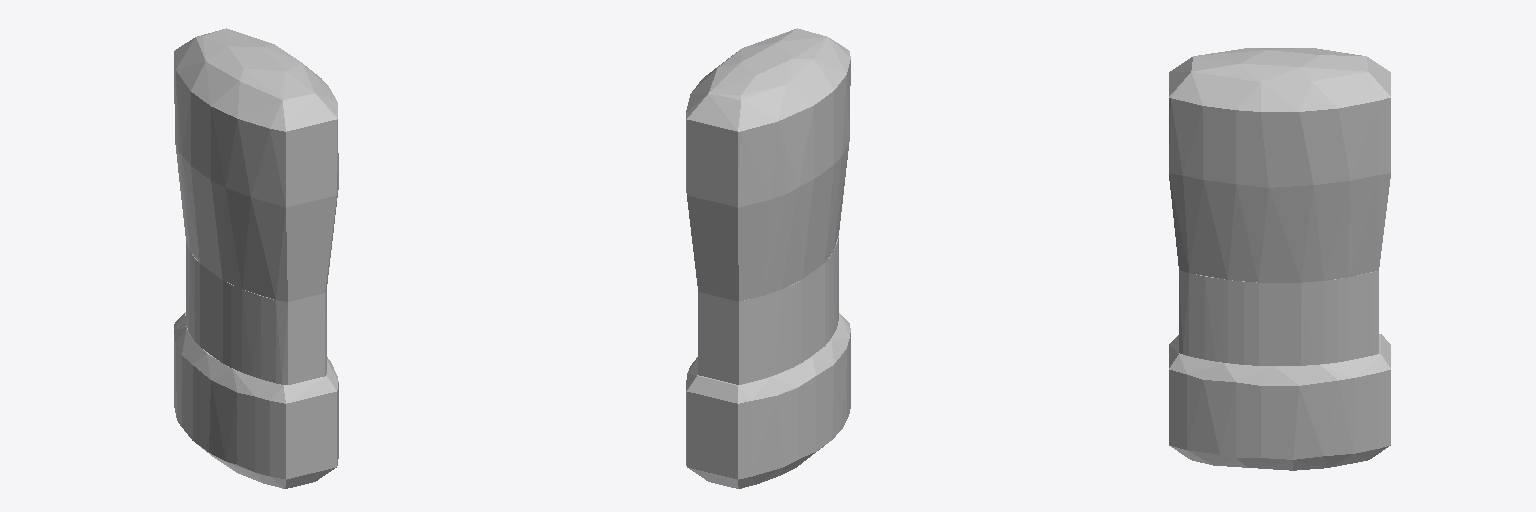
File: original-3_vhacd.obj
3 views of the same model, side by side, from view 1: azimuth 30°, elevation 25°; view 2: azimuth 150°, elevation 25°; view 3: azimuth 270°, elevation 25° (orthographic).
Visible parts, largest first — view 1: convex_0, convex_1, convex_2; view 2: convex_0, convex_1, convex_2; view 3: convex_0, convex_1, convex_2.
Part boxes in pixels (left/top/right/bottom): convex_0: left=174, top=28, right=338, bottom=301; convex_1: left=174, top=312, right=338, bottom=488; convex_2: left=186, top=242, right=326, bottom=384; convex_0: left=686, top=28, right=850, bottom=301; convex_1: left=686, top=313, right=850, bottom=488; convex_2: left=698, top=236, right=838, bottom=384; convex_0: left=1169, top=48, right=1390, bottom=282; convex_1: left=1169, top=334, right=1390, bottom=470; convex_2: left=1179, top=270, right=1378, bottom=365.
Bounding box in the file's own units: 0.4375 × 1.48 × 0.7571.